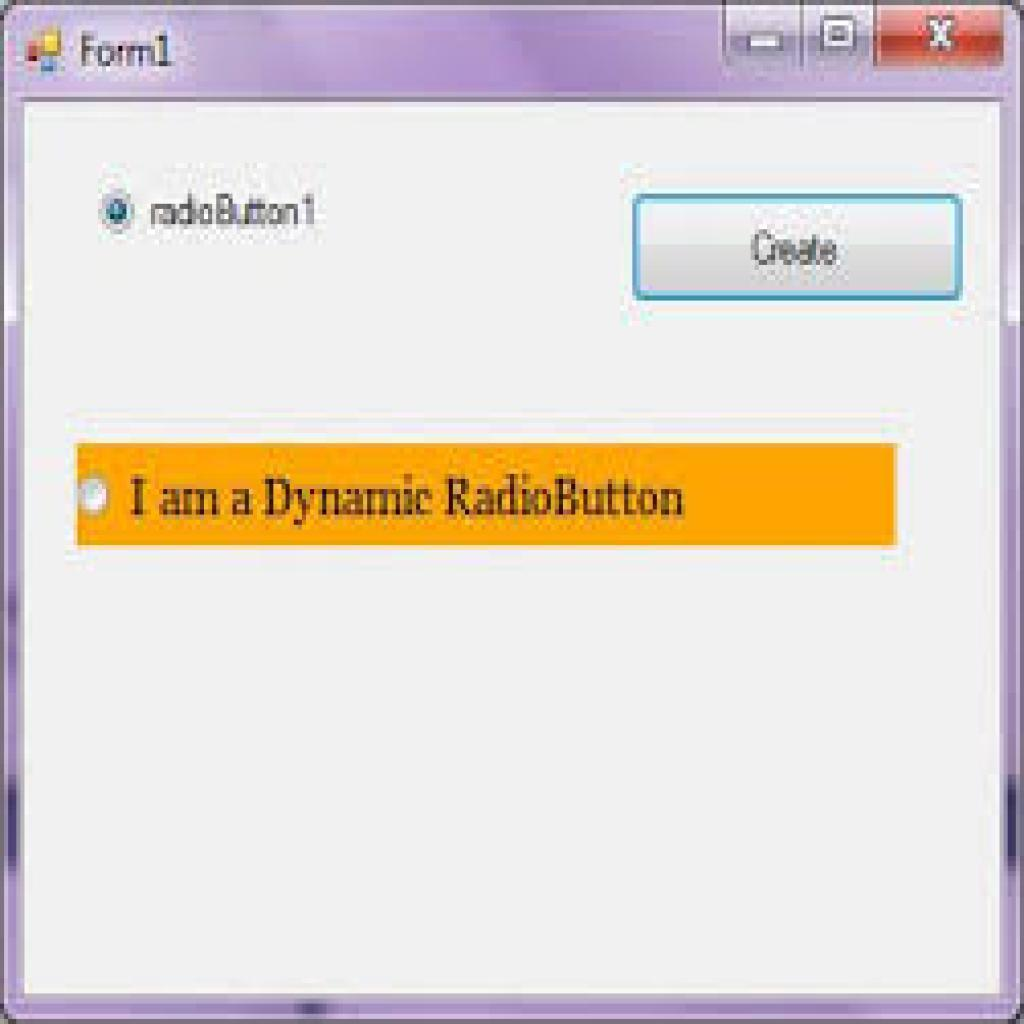button: (635, 197, 963, 304)
label: (145, 190, 321, 236)
radio: (94, 186, 139, 237), (80, 477, 108, 515)
